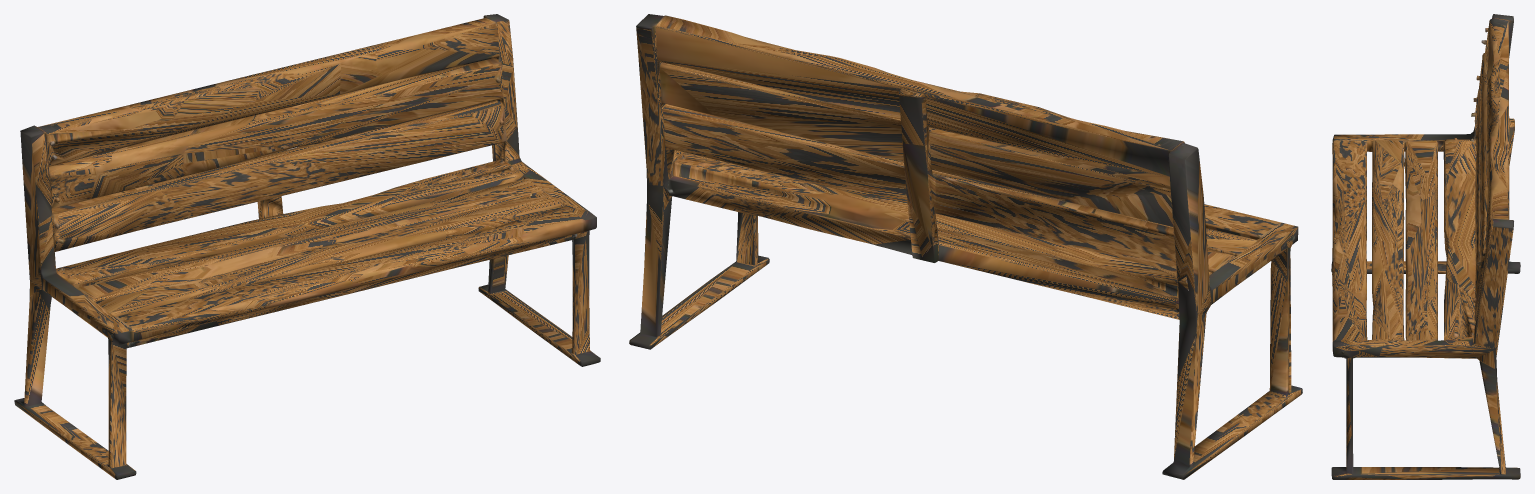
Rendered from bench.glb.
The picture shows the model from 3 angles, left to right: view 1: azimuth 30°, elevation 25°; view 2: azimuth 150°, elevation 25°; view 3: azimuth 270°, elevation 25°; orthographic projection. The views are drawn at different scales.
Parts seen in each view (by area): view 1: tripo_node_70a5fb71-d021-44ae-81cd-9e0abcf397c2; view 2: tripo_node_70a5fb71-d021-44ae-81cd-9e0abcf397c2; view 3: tripo_node_70a5fb71-d021-44ae-81cd-9e0abcf397c2.
Boxes of the visible parts, bbox=[...] form: tripo_node_70a5fb71-d021-44ae-81cd-9e0abcf397c2: bbox=[14, 14, 600, 479]; tripo_node_70a5fb71-d021-44ae-81cd-9e0abcf397c2: bbox=[629, 14, 1302, 479]; tripo_node_70a5fb71-d021-44ae-81cd-9e0abcf397c2: bbox=[1331, 14, 1520, 479].
Bounding box in the file's own units: 0.9795 × 0.5421 × 0.3649.
1 material, 1 textured.
